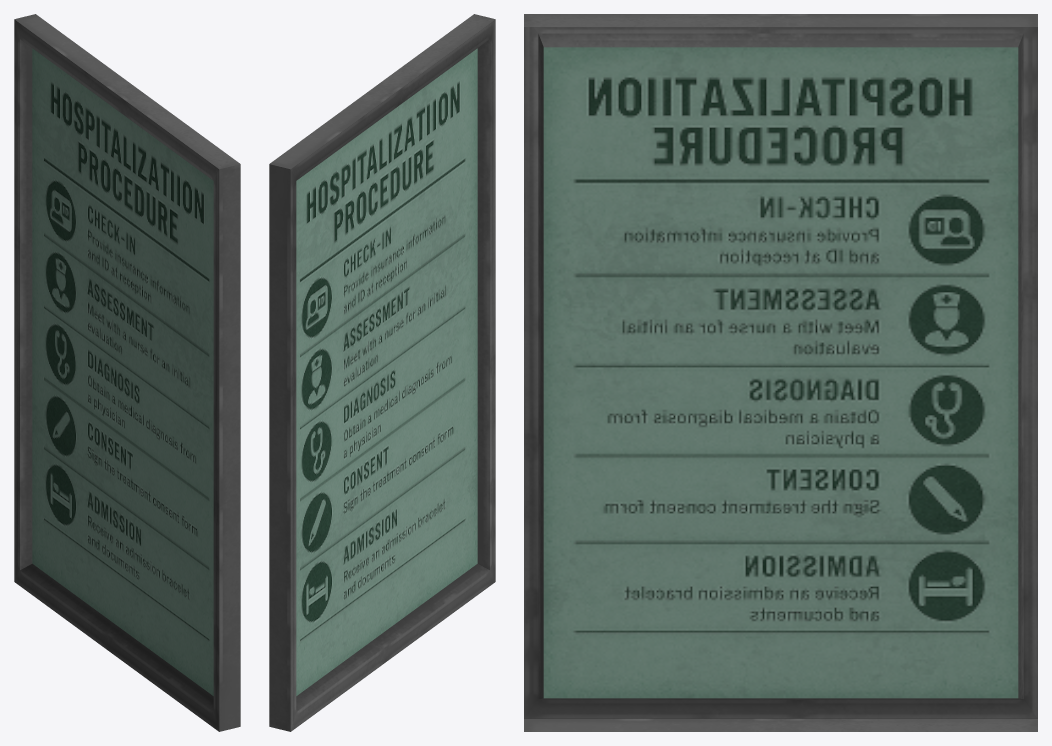
File: HH_Instruction_Board.fbx
3 views of the same model, side by side, from view 1: azimuth 30°, elevation 25°; view 2: azimuth 150°, elevation 25°; view 3: azimuth 270°, elevation 25° (orthographic). The views are drawn at different scales.
Parts seen in each view (by area): view 1: HH_Instruction_Board; view 2: HH_Instruction_Board; view 3: HH_Instruction_Board.
Boxes of the visible parts, bbox=[...] form: HH_Instruction_Board: bbox=[14, 14, 240, 731]; HH_Instruction_Board: bbox=[269, 14, 495, 731]; HH_Instruction_Board: bbox=[524, 14, 1037, 731].
Bounding box in the file's own units: 4.01 × 100 × 66.22.
